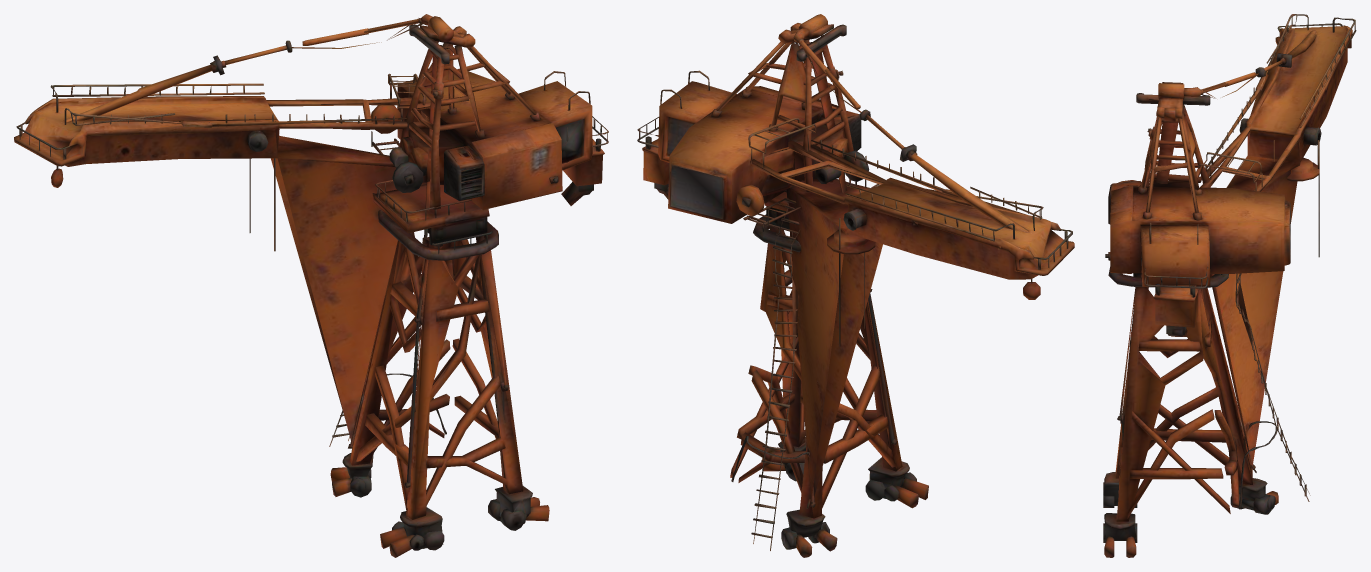
File: env_crane.glb
3 views of the same model, side by side, from view 1: azimuth 30°, elevation 25°; view 2: azimuth 150°, elevation 25°; view 3: azimuth 270°, elevation 25° (orthographic). The views are drawn at different scales.
Parts seen in each view (by area): view 1: env_crane; view 2: env_crane; view 3: env_crane.
Part boxes in pixels (x1,y1,x2,y2): env_crane: (14,14,608,557); env_crane: (637,14,1074,557); env_crane: (1103,14,1356,557).
Bounding box in the file's own units: 14.69 × 14 × 7.27.
1 material, 1 textured.
